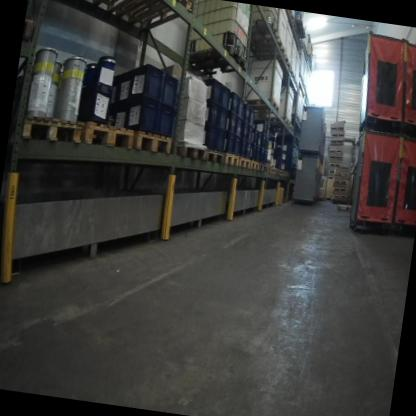pallet: (105, 0, 194, 45), (16, 107, 87, 148), (67, 0, 156, 25), (78, 115, 135, 153), (130, 128, 176, 157), (172, 132, 208, 163), (249, 32, 287, 59), (258, 51, 291, 70), (202, 145, 226, 167), (23, 16, 39, 40), (275, 8, 296, 26), (223, 152, 240, 168), (237, 156, 252, 173), (283, 66, 297, 84), (335, 199, 351, 214), (332, 169, 348, 178), (329, 153, 345, 162), (263, 165, 276, 176), (330, 131, 345, 140), (332, 186, 346, 195), (330, 123, 344, 132), (333, 176, 348, 184), (327, 147, 342, 155), (258, 162, 267, 175), (327, 161, 340, 169), (274, 167, 284, 177), (292, 80, 300, 92), (329, 137, 344, 143), (250, 161, 259, 171), (265, 158, 273, 167), (331, 193, 345, 198), (327, 170, 334, 175)
small_load_carrier: (128, 56, 166, 106), (123, 92, 161, 137), (195, 72, 226, 108), (115, 66, 137, 109), (160, 67, 182, 108), (154, 100, 179, 136), (200, 98, 222, 129), (112, 98, 132, 131), (107, 67, 123, 108), (198, 122, 218, 149), (218, 83, 232, 111), (214, 129, 228, 154), (250, 117, 268, 136), (216, 105, 229, 131), (101, 107, 117, 128), (226, 90, 240, 114), (224, 110, 237, 134), (235, 95, 246, 122), (222, 131, 235, 153), (232, 116, 244, 138), (241, 103, 252, 126), (245, 124, 255, 147), (247, 107, 257, 129), (254, 127, 264, 149), (232, 134, 242, 155), (250, 126, 259, 147), (240, 122, 249, 142), (239, 139, 248, 157), (245, 141, 253, 159), (259, 146, 266, 165), (254, 146, 261, 163), (265, 121, 271, 140), (250, 145, 257, 161), (263, 136, 270, 151), (262, 148, 268, 164), (260, 135, 265, 148)
